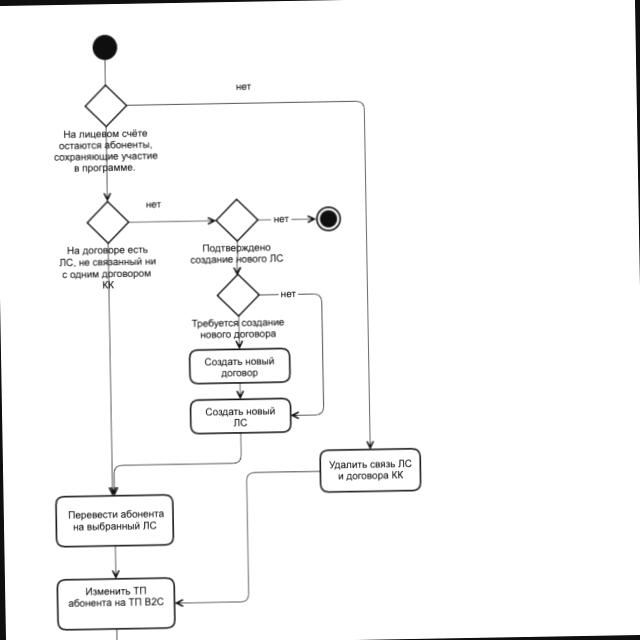arrow: (174, 466, 321, 607), (260, 286, 326, 422), (110, 432, 244, 493), (102, 242, 114, 493), (98, 123, 114, 200), (129, 216, 217, 225), (258, 213, 313, 226), (106, 546, 122, 576), (231, 315, 245, 348), (230, 240, 243, 273), (232, 382, 247, 398)
circle: (93, 35, 117, 60), (317, 207, 341, 230)
diamond: (88, 202, 128, 243), (86, 85, 126, 126), (218, 275, 259, 315), (218, 199, 258, 240)
rectangle: (57, 578, 175, 630), (56, 495, 173, 547), (320, 449, 421, 492), (190, 398, 291, 434), (189, 348, 290, 384)
text_region: (48, 242, 160, 292), (51, 124, 157, 176), (184, 311, 285, 345), (185, 240, 286, 268), (229, 75, 260, 94), (141, 196, 164, 210), (273, 211, 290, 227), (279, 288, 298, 301)
